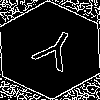Y: (25, 25, 82, 81)
